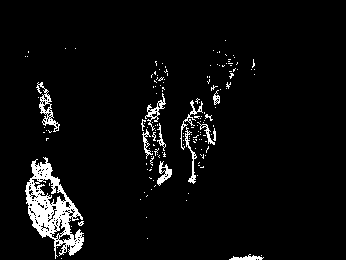person: (24, 157, 84, 260), (179, 97, 218, 185), (140, 103, 174, 186), (33, 79, 61, 135)
